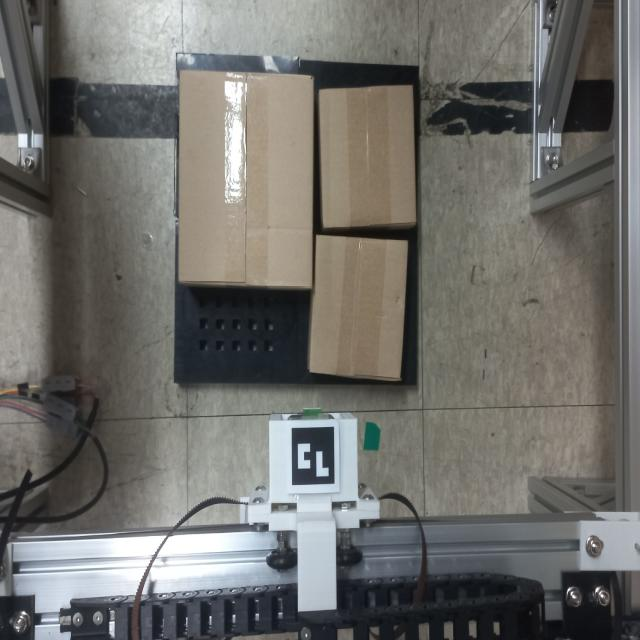box: (172, 66, 317, 293), (306, 228, 410, 387), (317, 81, 418, 227)
